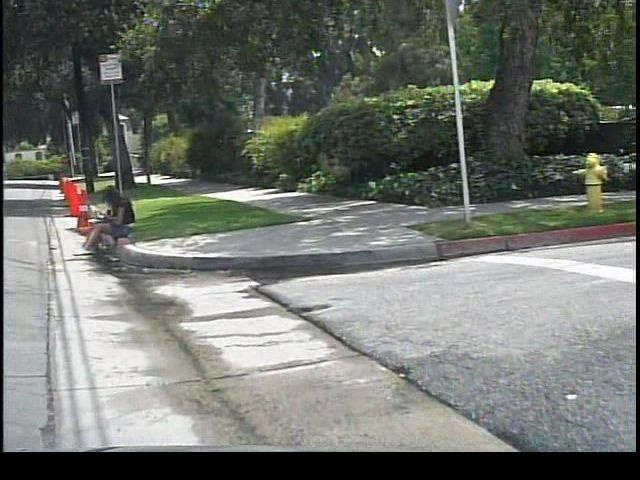person: (75, 184, 145, 259)
